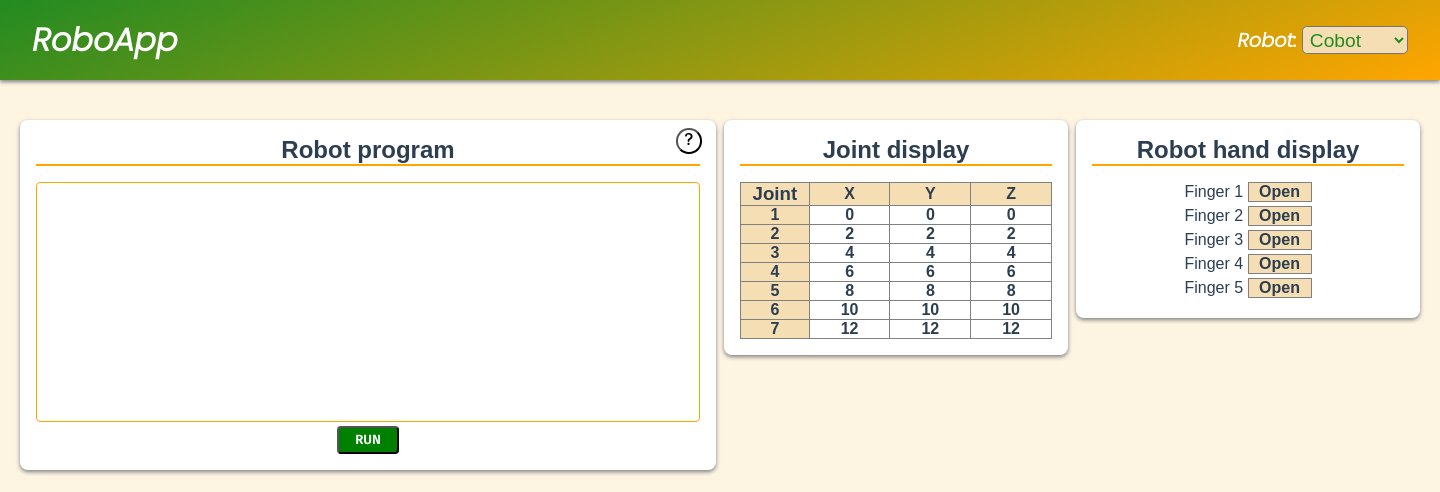
Test: RoboApp test suite › RobotHand › When finger closed, should display closed corresponding finger
In the text box: (368, 302) top-left (36, 182), bottom-right (700, 422), type "close 4"
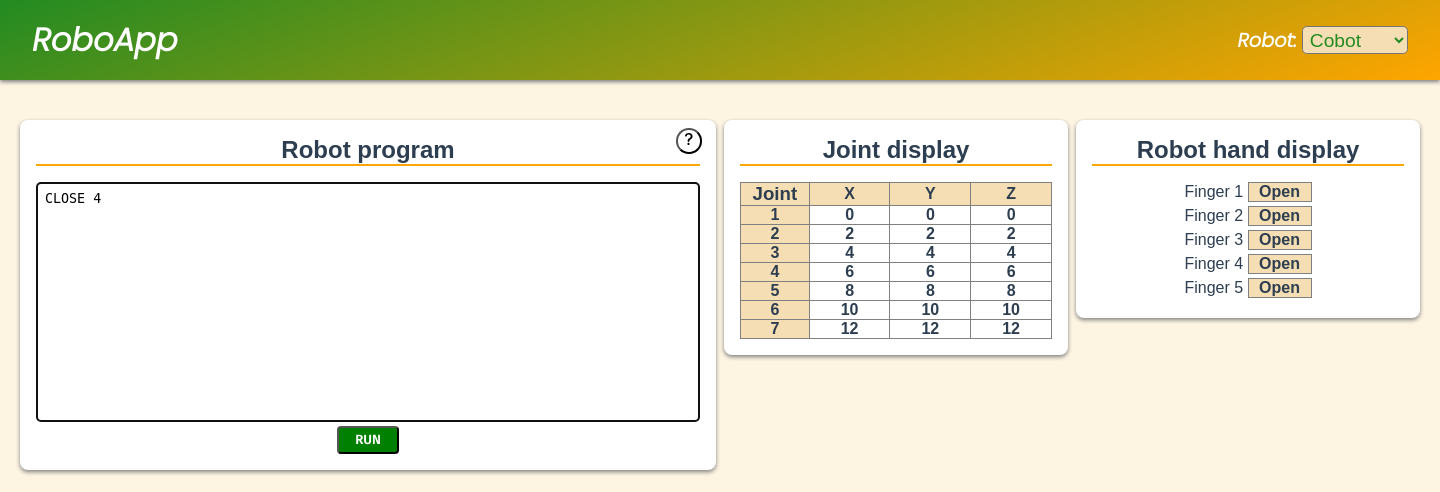
Click the button "Run": click(368, 440) top-left (337, 426), bottom-right (399, 454)
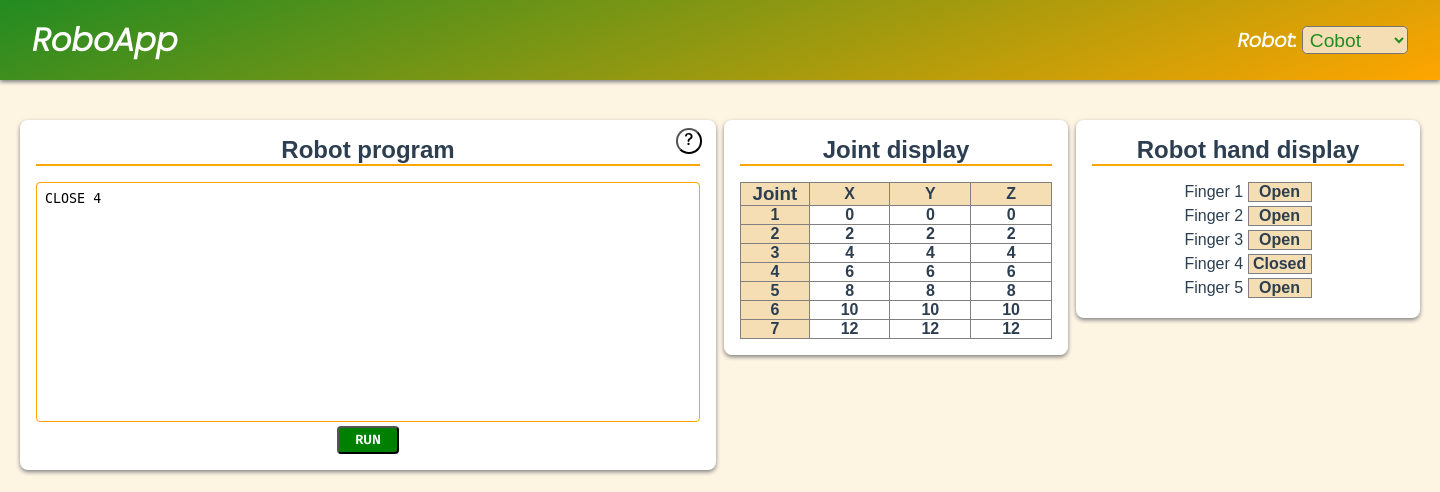
Result: the text "Closed" is shown at top-left (1248, 254), bottom-right (1312, 274)
